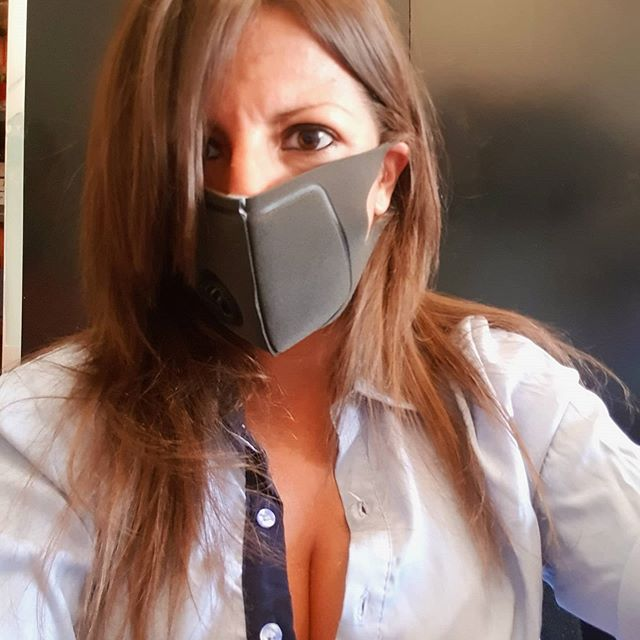homemade: (137, 145, 405, 350)
